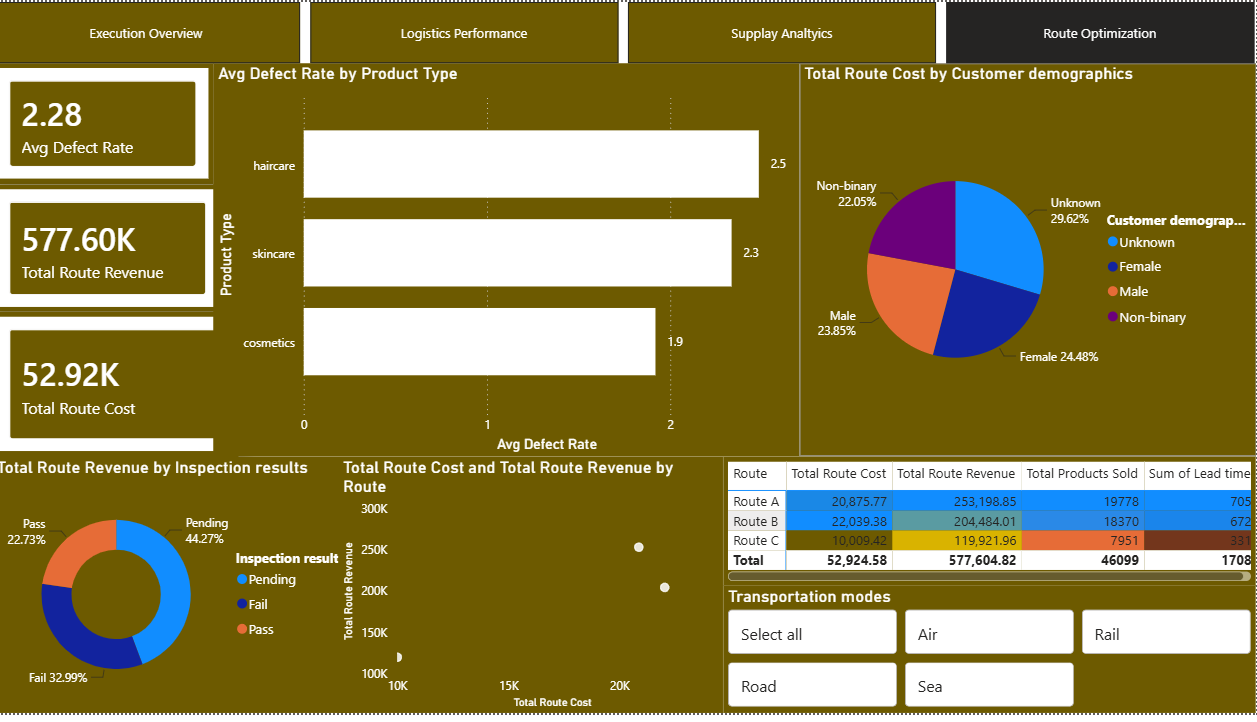

The page's visual inventory and layout, read from the dashboard file:
{"tool":"powerbi","page":{"name":"Route Optimization","canvas":[1280,720],"ordinal":3},"visuals":[{"type":"cardVisual","fields":{"Data":["Measure.Avg Defect Rate"]},"box":[0,62,224.1,122.8],"z":0},{"type":"cardVisual","fields":{"Data":["Measure.Total Route Revenue"]},"box":[0,184.8,234.2,129.1],"z":1000},{"type":"cardVisual","fields":{"Data":["Measure.Total Route Cost"]},"box":[0,313.9,249.4,146.8],"z":2000},{"type":"barChart","fields":{"Y":["Measure.Avg Defect Rate"],"Category":["Dim_Product.Product Type"]},"box":[224.1,62,593.7,398.7],"z":3000},{"type":"donutChart","fields":{"Category":["Fact_supply chain.Inspection results"],"Y":["Measure.Total Route Revenue"]},"box":[0,460.8,365.8,259.5],"z":4000},{"type":"scatterChart","fields":{"X":["Measure.Total Route Cost"],"Y":["Measure.Total Route Revenue"],"Category":["Dim_Route.Route"]},"box":[350.6,460.8,389.9,259.5],"z":5000},{"type":"pivotTable","fields":{"Rows":["Dim_Route.Route"],"Values":["Measure.Total Route Cost","Measure.Total Route Revenue","Measure.Total Products Sold","Sum(Fact_supply chain.Lead time)"]},"box":[740.5,460.8,539.2,130.4],"z":6000},{"type":"pieChart","fields":{"Category":["Fact_supply chain.Customer demographics"],"Y":["Measure.Total Route Cost"]},"box":[817.7,62,462,398.7],"z":7000},{"type":"pageNavigator","box":[0,0,1279.7,62],"z":8000},{"type":"advancedSlicerVisual","fields":{"Values":["Fact_supply chain.Transportation modes"]},"box":[740.5,591.1,539.2,129.1],"z":8001}]}

Visuals, with their boxes in screenshot pixels (x1, y1, x2, y2), scaled from the page's 1280x720 canvas onto the 1257x722 screenshot:
cardVisual - Measure.Avg Defect Rate: 0, 62, 220, 185
cardVisual - Measure.Total Route Revenue: 0, 185, 230, 315
cardVisual - Measure.Total Route Cost: 0, 315, 245, 462
barChart - Measure.Avg Defect Rate x Dim_Product.Product Type: 220, 62, 803, 462
donutChart - Fact_supply chain.Inspection results x Measure.Total Route Revenue: 0, 462, 359, 721
scatterChart - Measure.Total Route Cost x Measure.Total Route Revenue: 344, 462, 727, 721
pivotTable - Dim_Route.Route x Measure.Total Route Cost: 727, 462, 1256, 593
pieChart - Fact_supply chain.Customer demographics x Measure.Total Route Cost: 803, 62, 1256, 462
pageNavigator: 0, 0, 1256, 62
advancedSlicerVisual - Fact_supply chain.Transportation modes: 727, 593, 1256, 721
